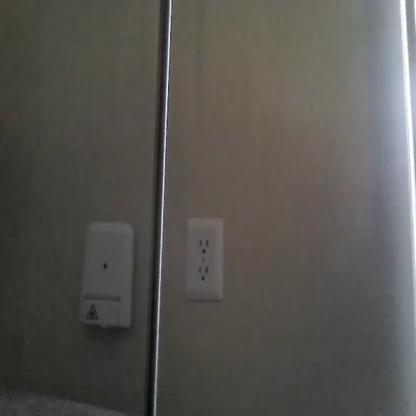OUTLET: (184, 216, 224, 301)
